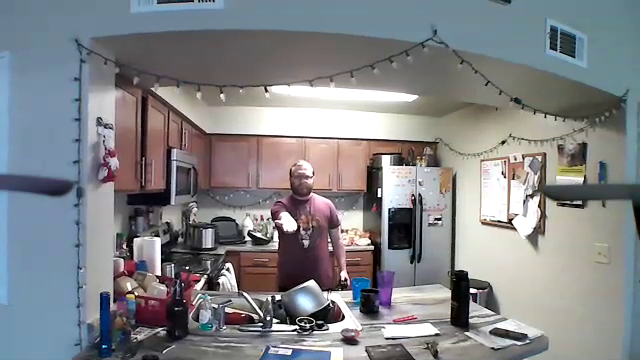land: (271, 214, 301, 237)
